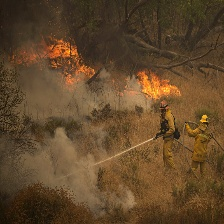fire: (12, 33, 99, 83), (119, 62, 184, 101)
smoke: (2, 75, 140, 212)
